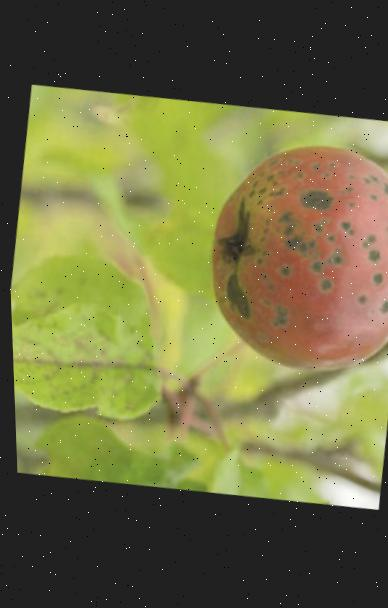SCAB: (164, 115, 388, 391)
